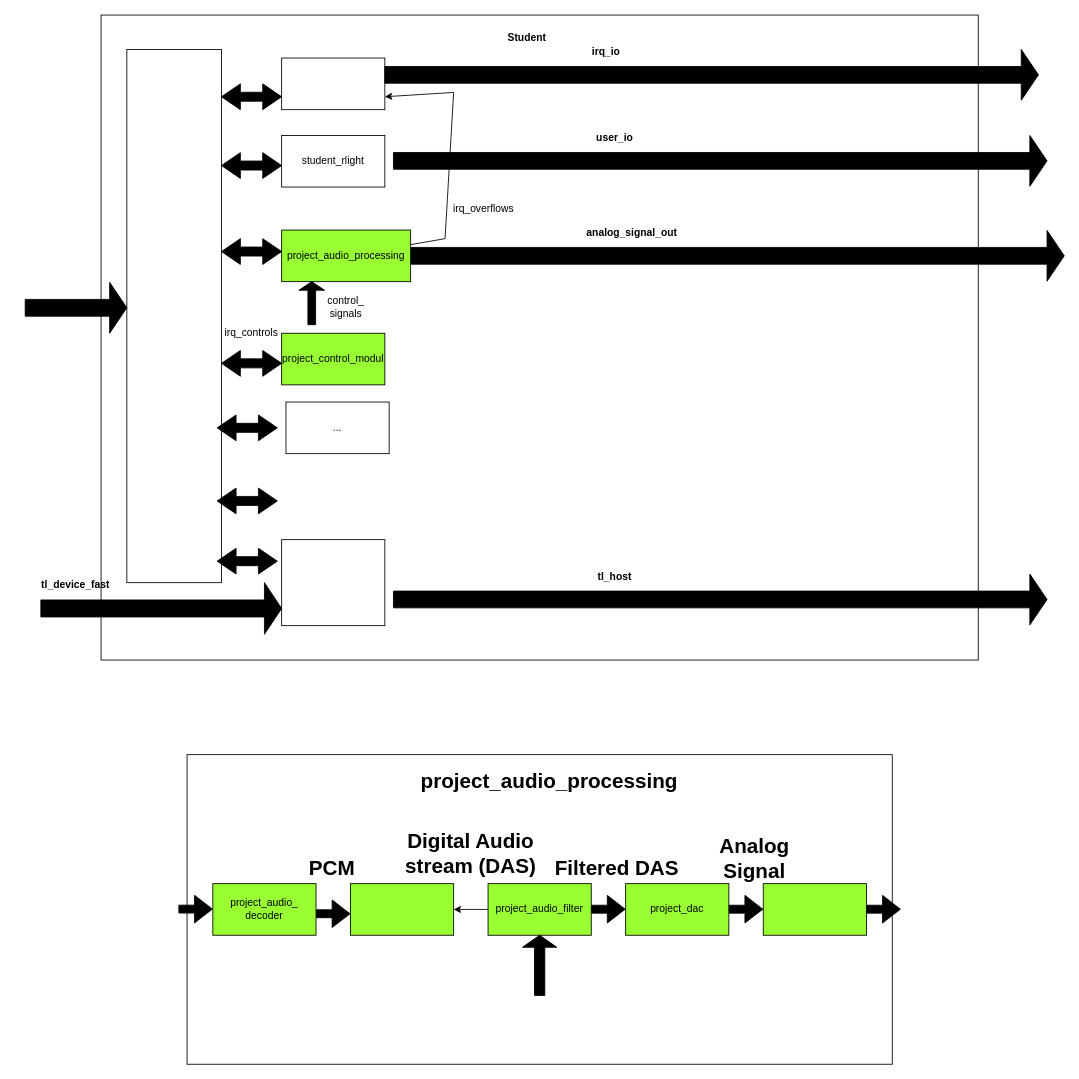
Some shapes in this 1079 by 1079 pixel diagram are drawn without their labels. Here are the shapes that lost their labels. From the top down, the centre of each, then its label:
the point at 333,83: student_irq_ctrl
the point at 75,307: tl_device_peri
the point at 173,316: student_tlul_mux
the point at 333,582: student_dma
the point at 402,909: project_audio_ codec
the point at 814,909: project_audio_output
